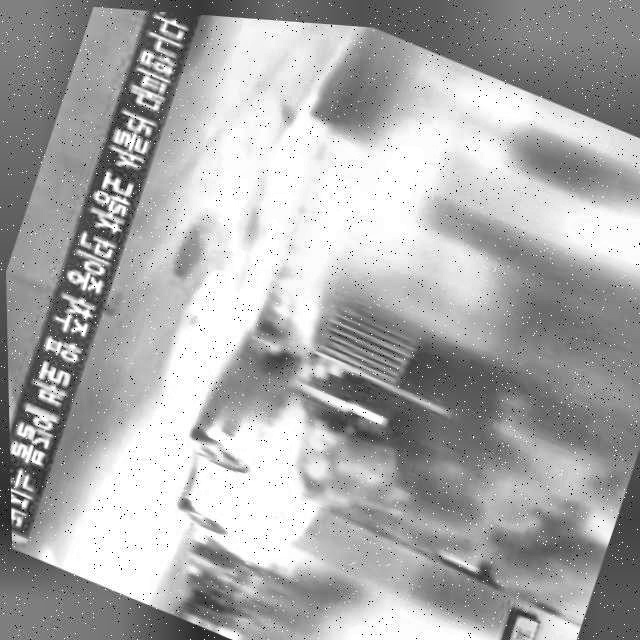Fire: (282, 410, 408, 518)
Smoke: (374, 361, 638, 624)
